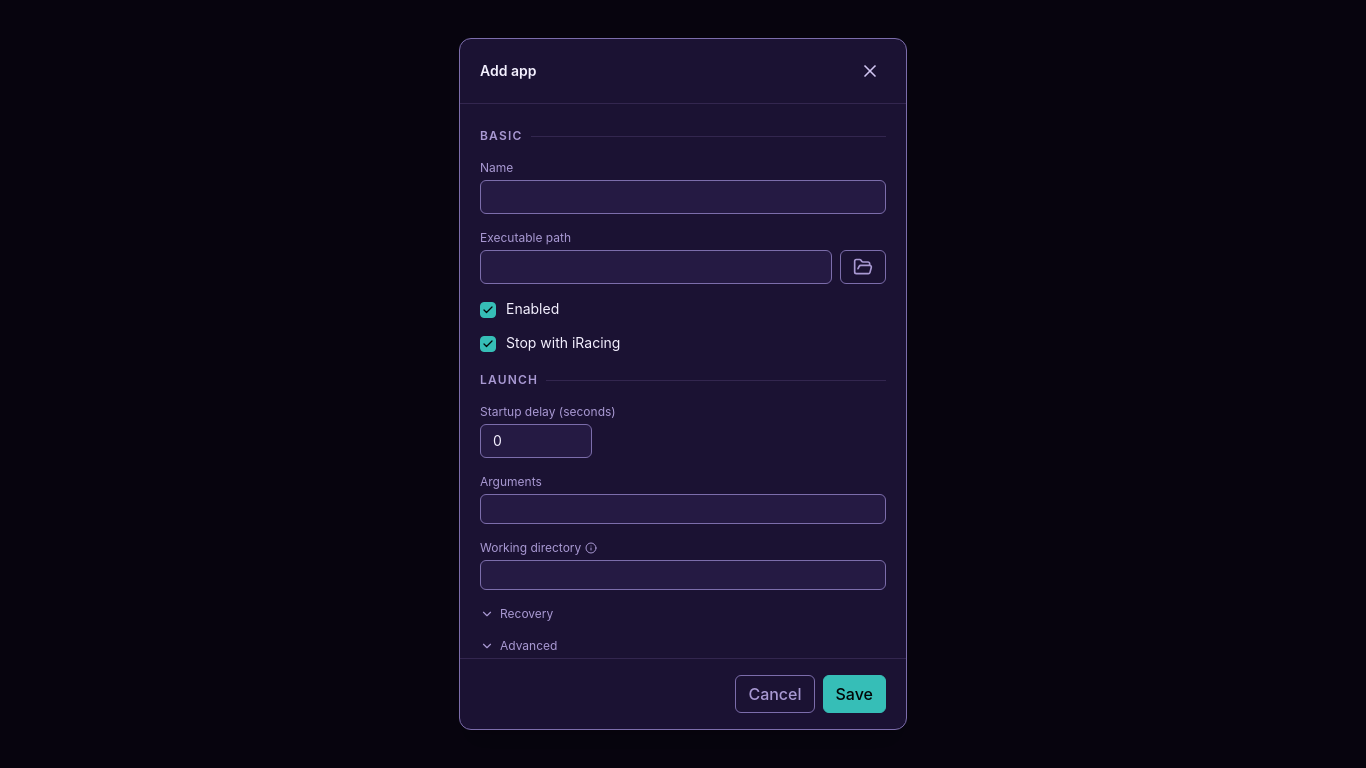
Test: AppFormModal exe browse › fills exe_path and working_dir when user picks a file
Step 1. Click the button named "browse" → point(863, 267), box [840, 250, 886, 284]
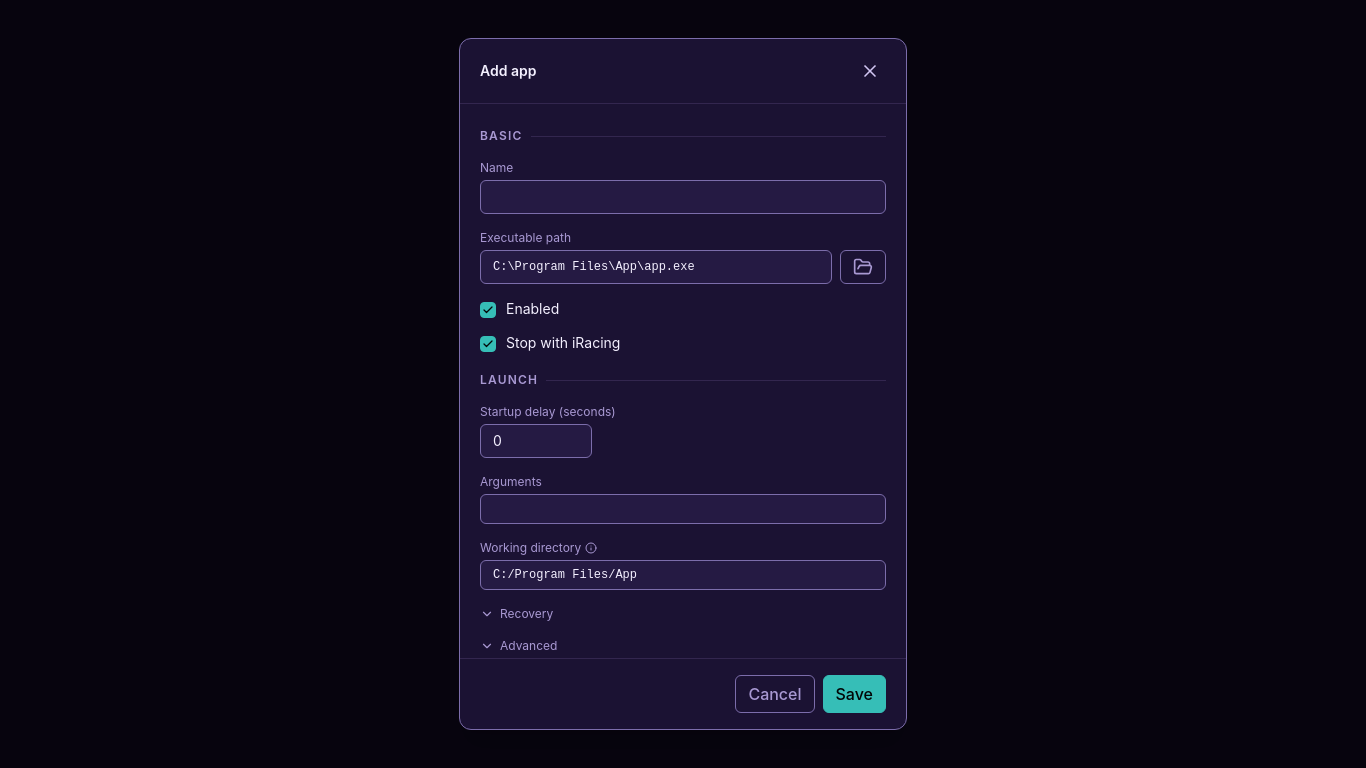
Expected: the field labelled "Executable path" holds "C:\\Program Files\\App\\app.exe", [480, 250, 832, 284]
Expected: the field labelled "Working directory" holds "C:/Program Files/App", [480, 560, 886, 590]
